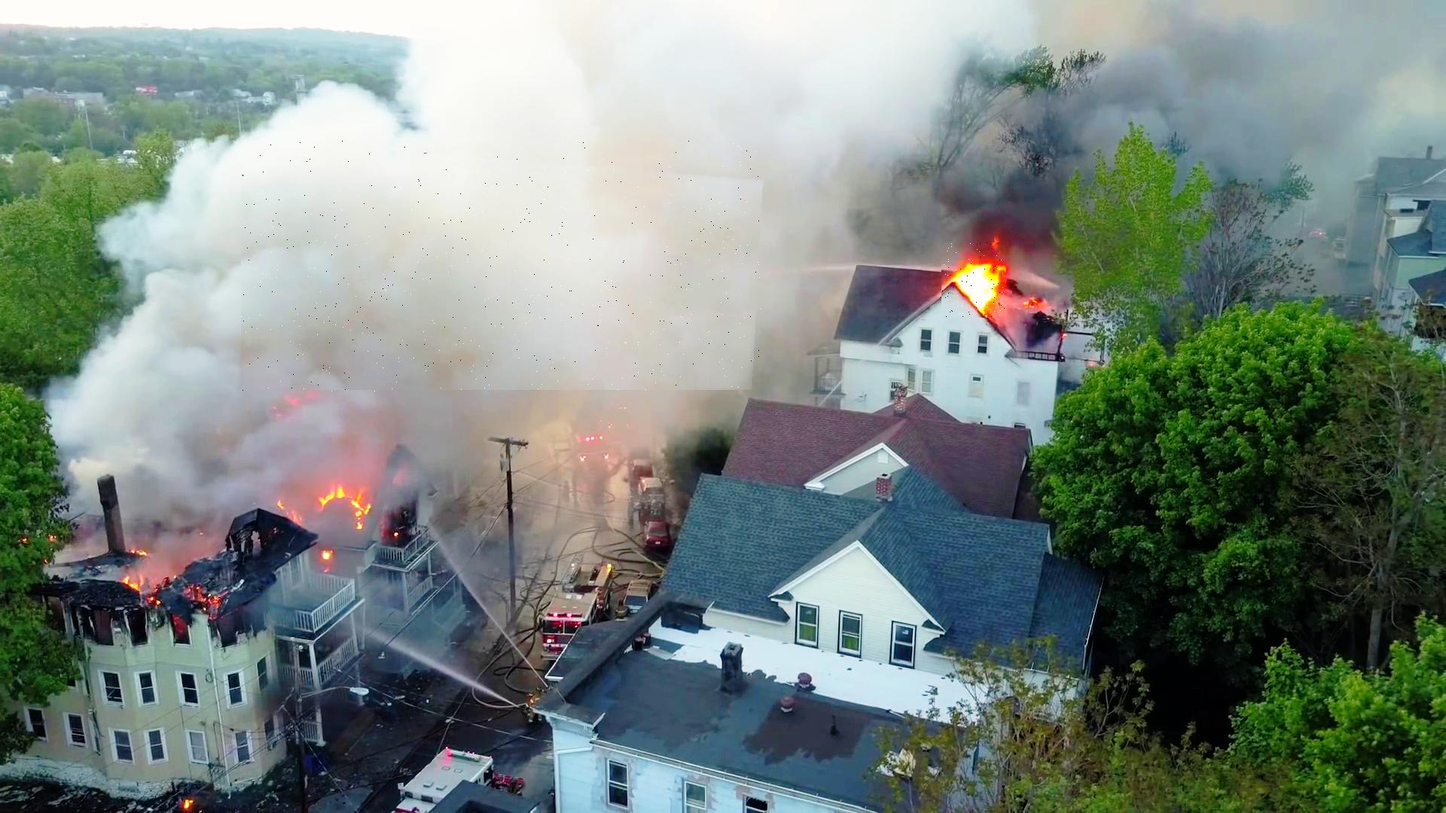fire: (942, 243, 1005, 320)
smoke: (241, 140, 763, 392)
